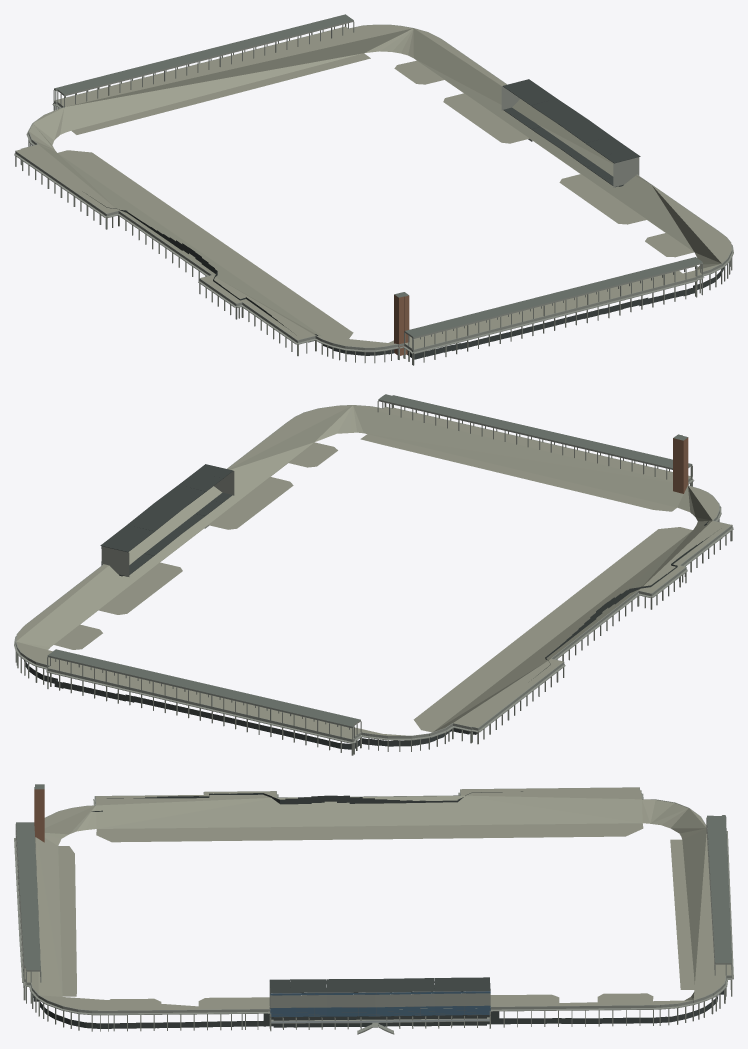
The model's file is great-strahov-stadium-far.glb.
The picture shows the model from 3 angles, top to bottom: view 1: azimuth 30°, elevation 25°; view 2: azimuth 150°, elevation 25°; view 3: azimuth 270°, elevation 25°; orthographic projection. The views are drawn at different scales.
Parts seen in each view (by area): view 1: seat both, concrete both, stadium-soffit both, roof both, brick both; view 2: seat both, concrete both, stadium-soffit both, roof both, brick both; view 3: seat both, concrete both, stadium-soffit both, roof both, stadium-glass far, stadium-cladding both, brick both, stadium-frame both.
Boxes of the visible parts, x1,y1,x2,y2 form: seat both: (16, 24, 731, 349); concrete both: (14, 20, 733, 365); stadium-soffit both: (87, 79, 723, 359); roof both: (54, 14, 701, 337); brick both: (394, 294, 409, 355); seat both: (16, 405, 731, 740); concrete both: (14, 399, 733, 755); stadium-soffit both: (24, 464, 708, 749); roof both: (48, 394, 691, 726); brick both: (673, 437, 688, 493); seat both: (24, 787, 731, 1010); concrete both: (14, 787, 733, 1034); stadium-soffit both: (33, 791, 723, 1028); roof both: (16, 784, 731, 969); stadium-glass far: (270, 991, 490, 1016); stadium-cladding both: (271, 991, 490, 1023); brick both: (34, 789, 44, 842); stadium-frame both: (270, 991, 490, 1017).
Size of the model in its own units: 307 by 44.07 by 413.
